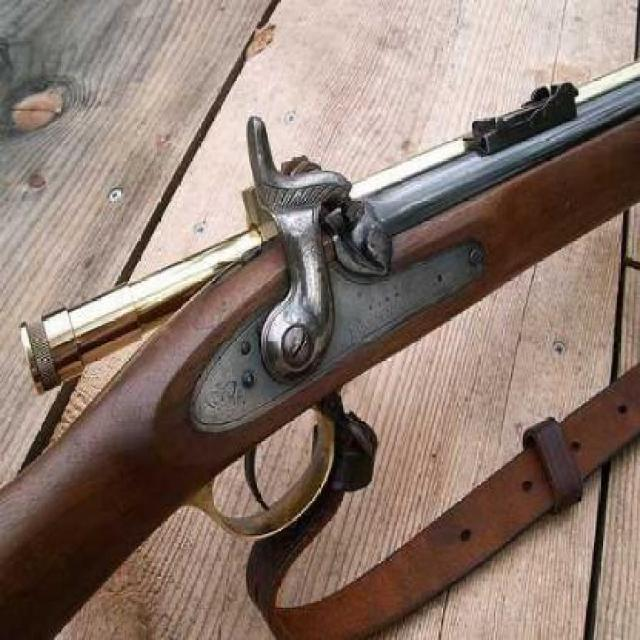weapon: (23, 59, 640, 640)
